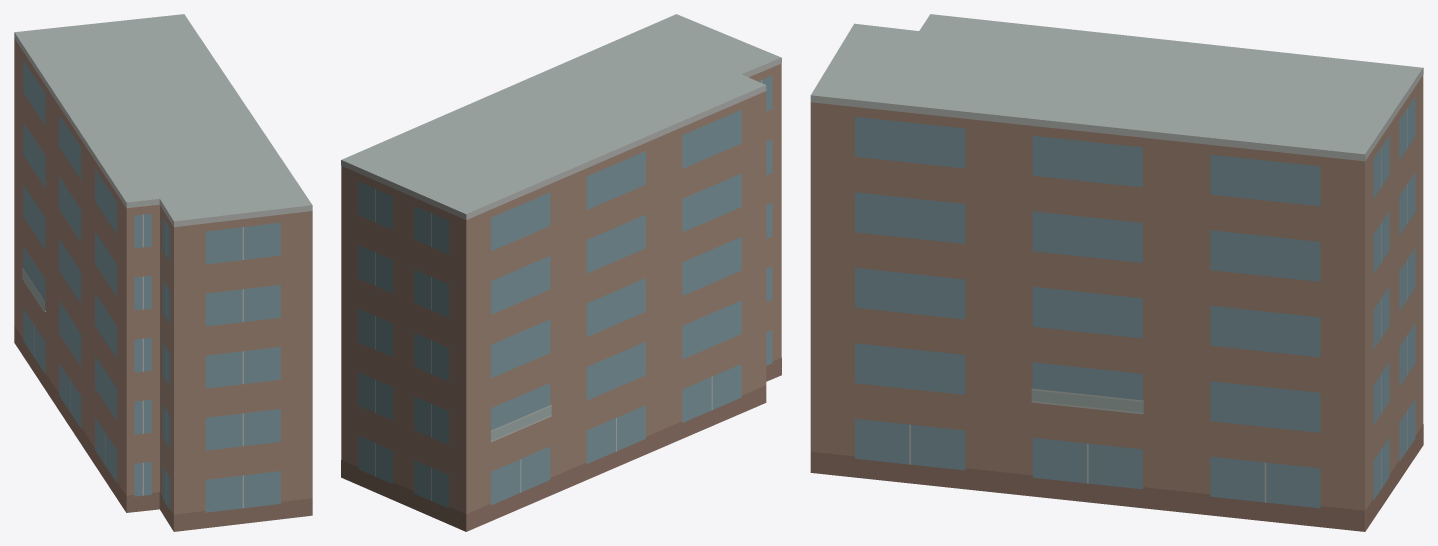
Rendered from survey-upis-32905093.glb.
The picture shows the model from 3 angles, left to right: view 1: azimuth 30°, elevation 25°; view 2: azimuth 150°, elevation 25°; view 3: azimuth 270°, elevation 25°; orthographic projection. The views are drawn at different scales.
Parts seen in each view (by area): view 1: survey-upis-32905093.tmp; view 2: survey-upis-32905093.tmp; view 3: survey-upis-32905093.tmp.
Part boxes in pixels (x1,y1,x2,y2): survey-upis-32905093.tmp: (14,14,312,531); survey-upis-32905093.tmp: (341,14,781,531); survey-upis-32905093.tmp: (810,14,1423,531).
Size of the model in its own units: 10.54 by 13.2 by 19.43.
